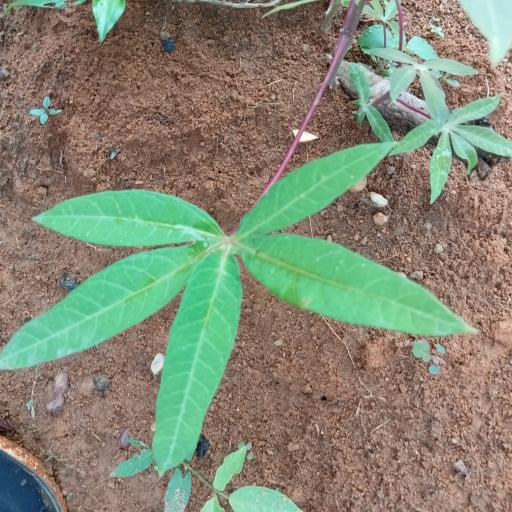Cassava_Mosaic: (40, 150, 442, 450)
